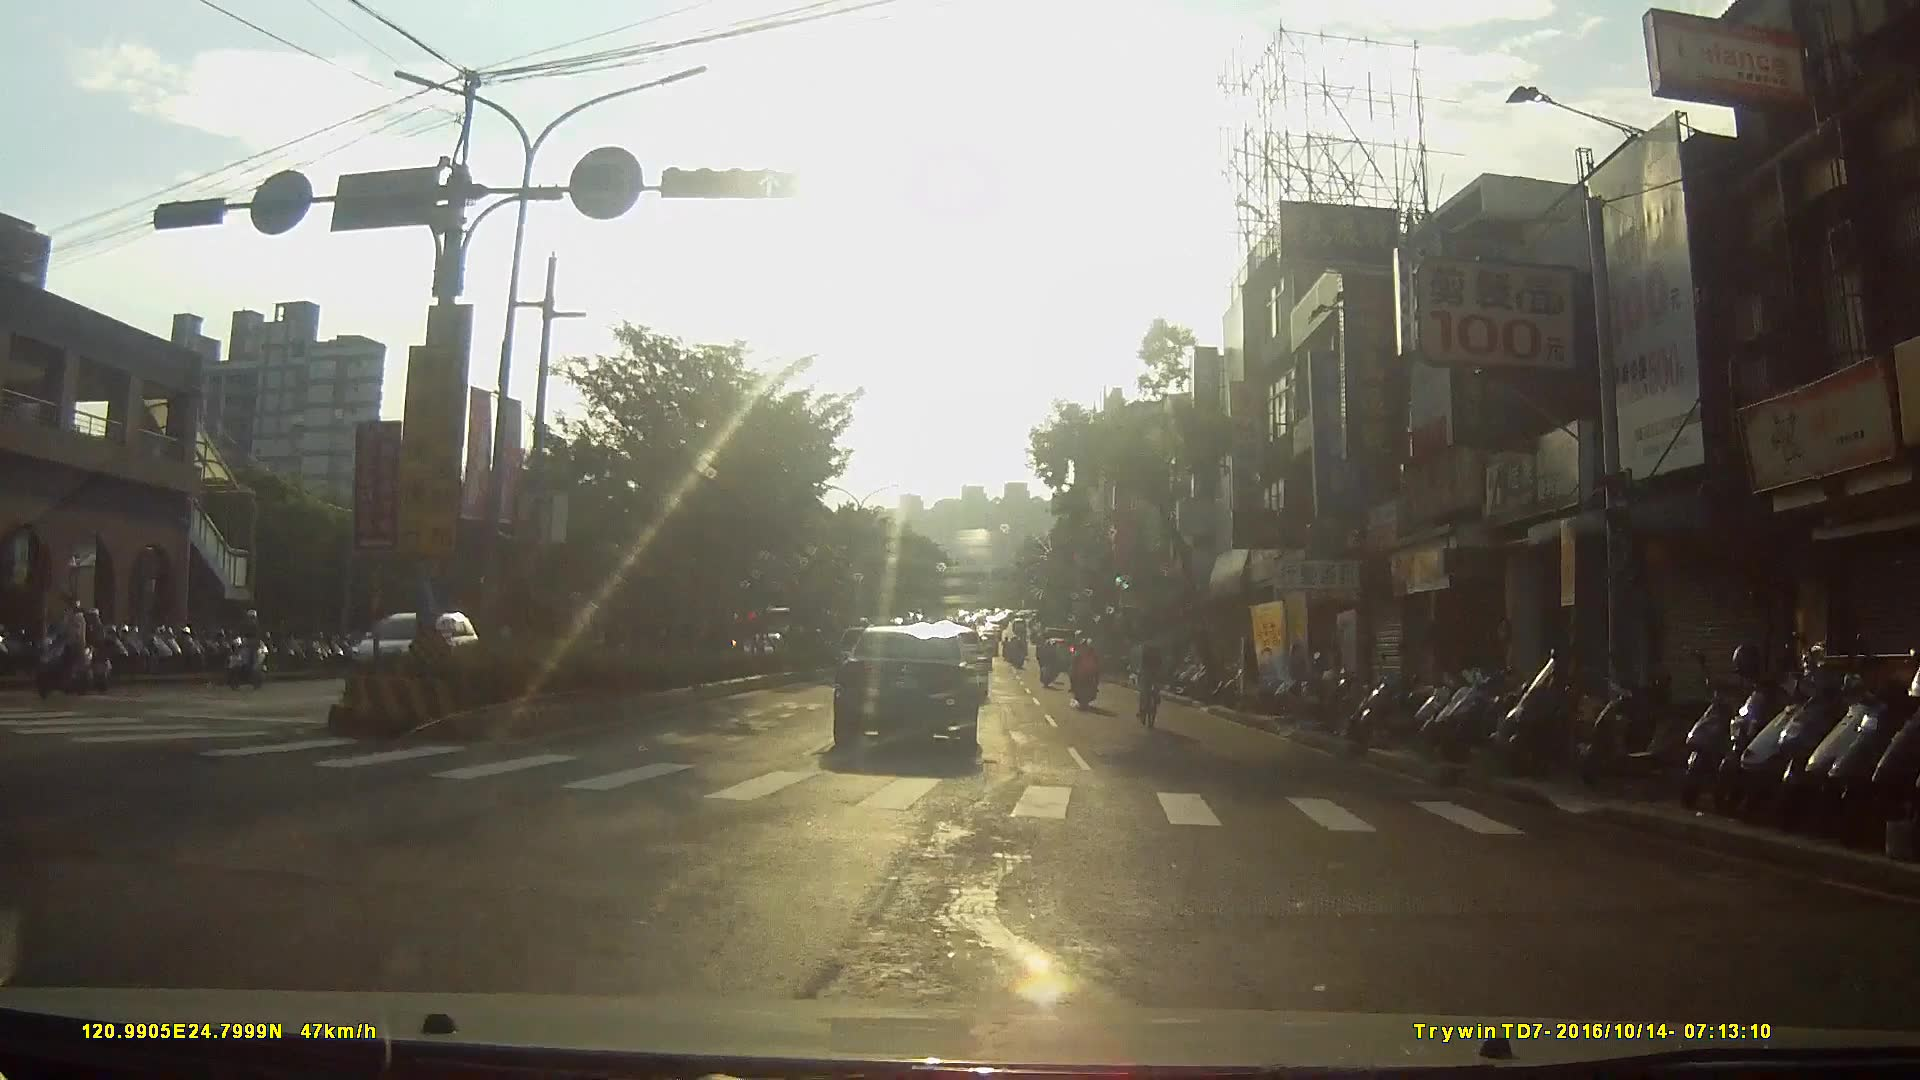rider: (26, 595, 101, 697), (1130, 616, 1173, 718), (228, 610, 270, 691), (1073, 638, 1102, 713), (1035, 638, 1062, 692)
vehicle: (836, 609, 993, 754)
